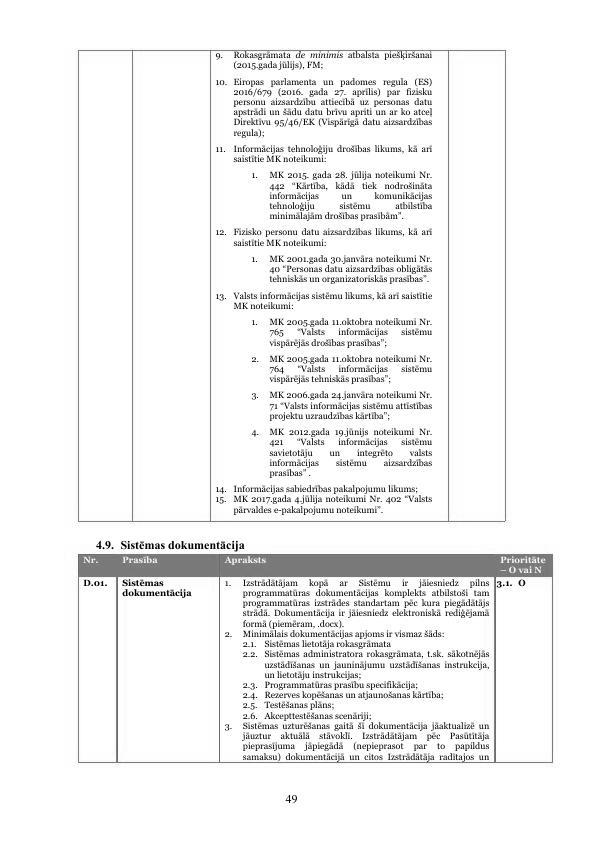table: (71, 46, 511, 529), (73, 552, 557, 767)
text: (93, 535, 245, 552)
